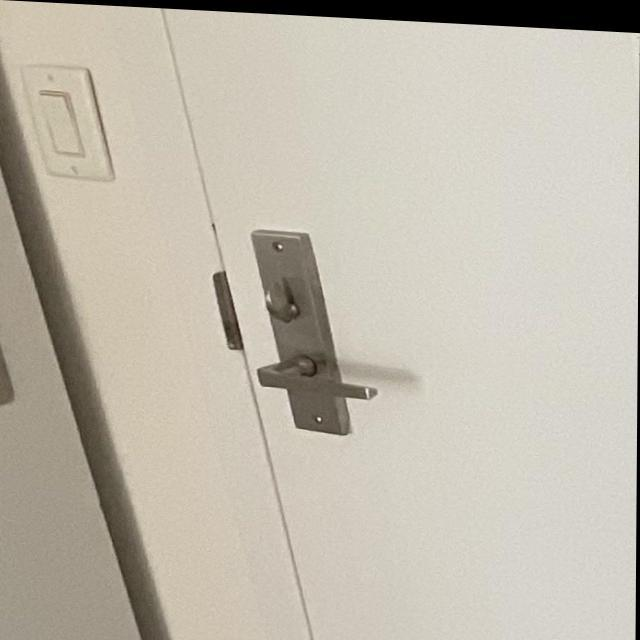door_handle: (239, 337, 389, 415)
